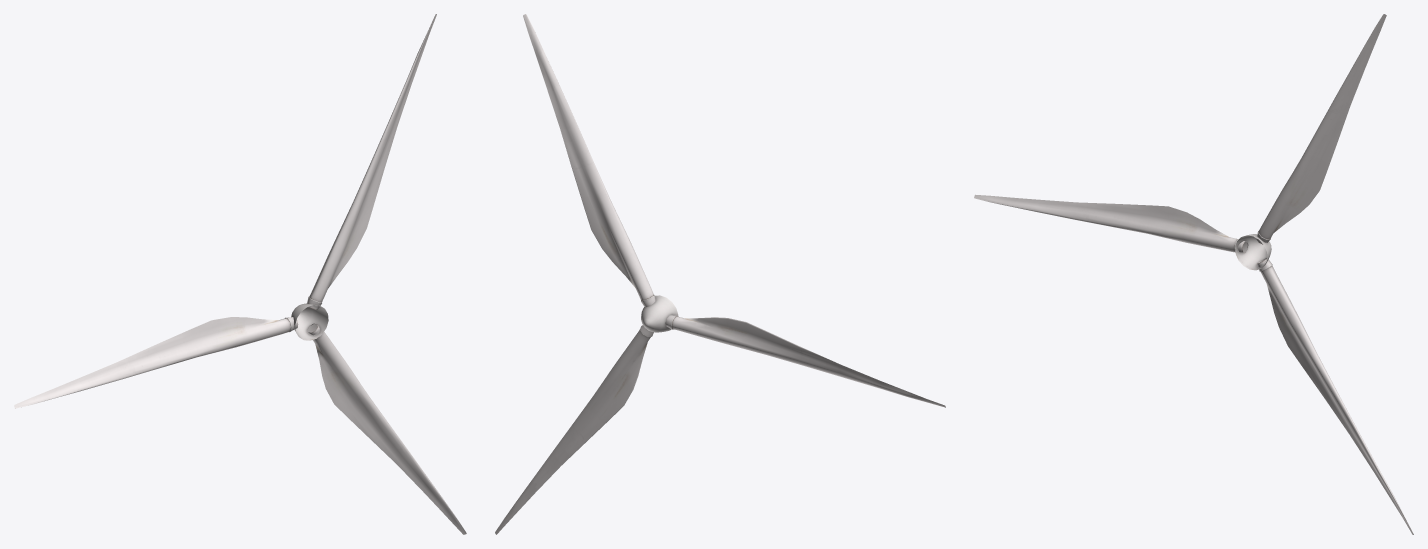
Rendered from wind-turbine-blades.glb.
3 renders of one model, left to right at view 1: azimuth 30°, elevation 25°; view 2: azimuth 150°, elevation 25°; view 3: azimuth 330°, elevation 25°, orthographic. The views are drawn at different scales.
Visible parts, largest first — view 1: Wind_Turbine__LOD3.001; view 2: Wind_Turbine__LOD3.001; view 3: Wind_Turbine__LOD3.001.
Part boxes in pixels (box(x1,y1,x2,y2)): Wind_Turbine__LOD3.001: box(14, 14, 466, 534); Wind_Turbine__LOD3.001: box(495, 14, 945, 534); Wind_Turbine__LOD3.001: box(974, 14, 1413, 534).
Bounding box in the file's own units: 11.41 × 12.75 × 0.6853.
Materials: 1 (1 with a texture image).
